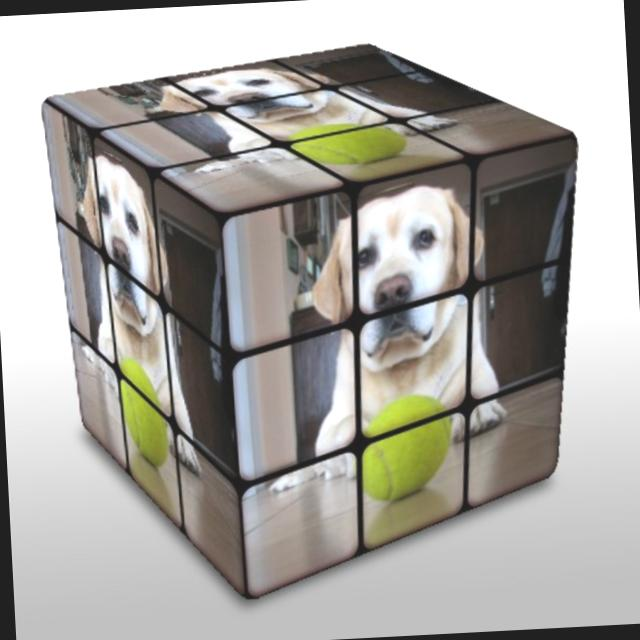Tennis Ball: (352, 394, 472, 528), (111, 366, 170, 468), (288, 117, 405, 168)
